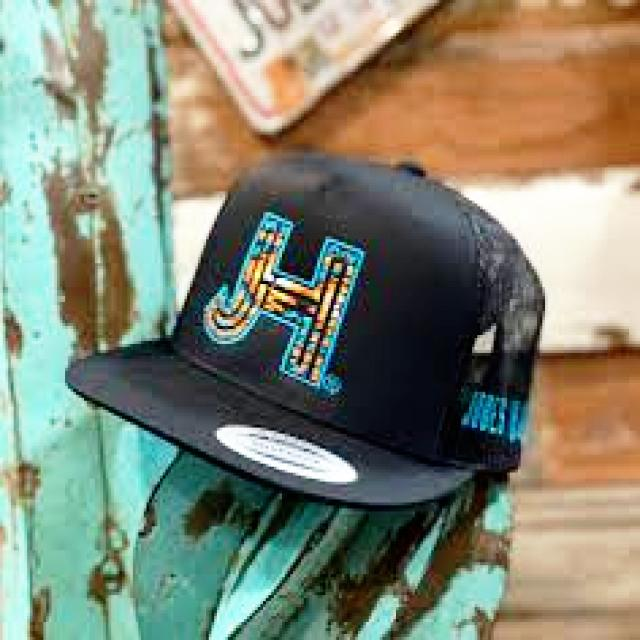TOPI: (60, 138, 553, 518)
